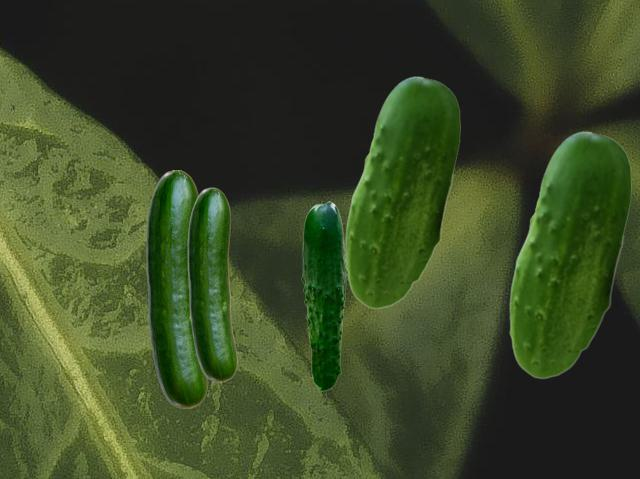cucumber: (509, 131, 630, 378), (345, 76, 459, 308), (146, 170, 206, 407), (187, 187, 236, 381), (301, 201, 347, 390)
